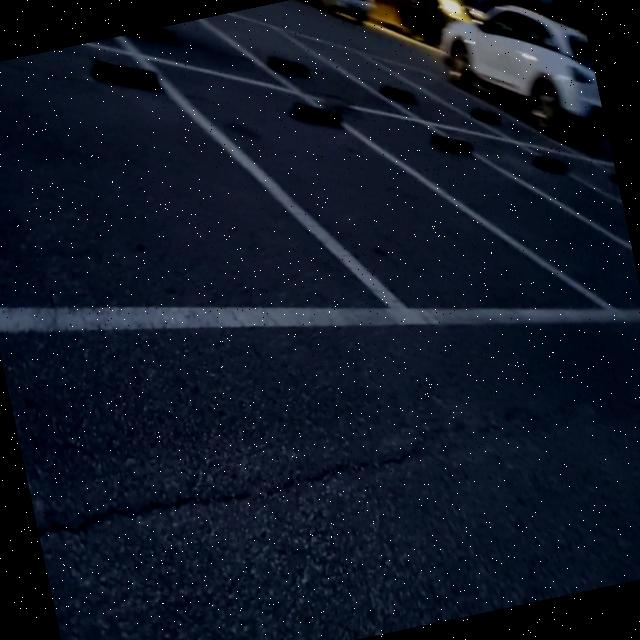empty: (134, 0, 590, 401), (306, 32, 640, 388), (432, 89, 632, 286)
